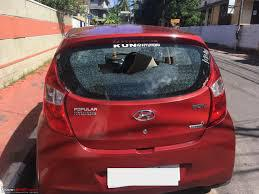Rear-windscreen-Damage: (49, 36, 220, 118)
